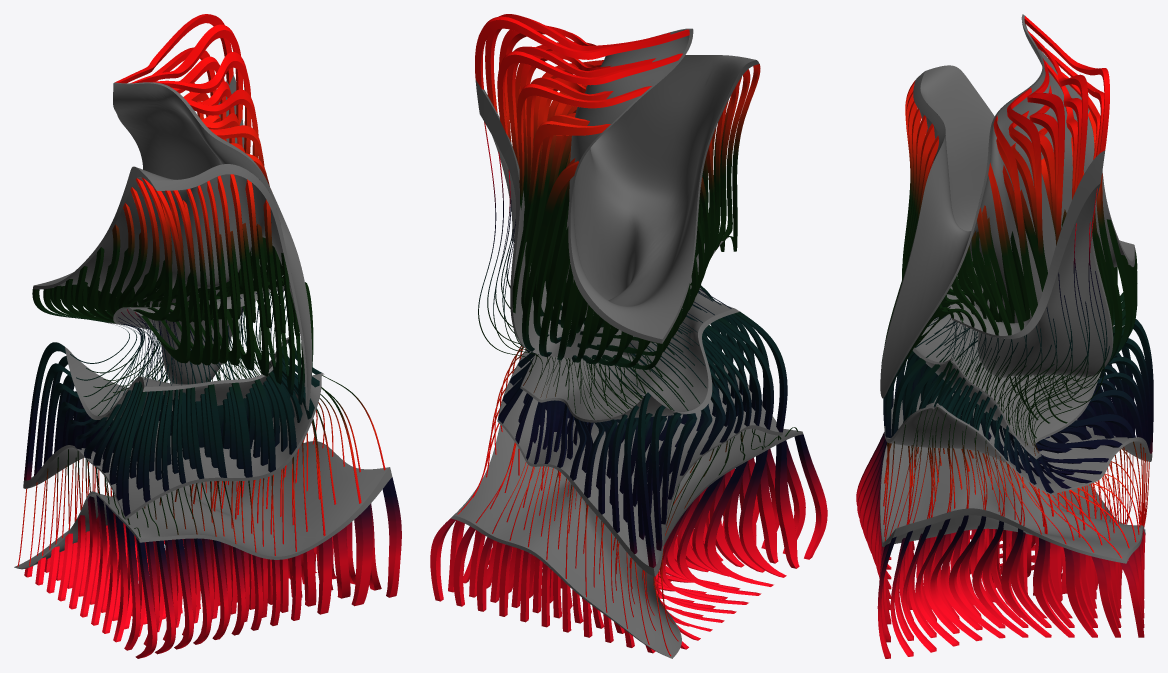
The model's file is chromiebridgeauralsection-RED-v141.glb.
3 renders of one model, left to right at view 1: azimuth 30°, elevation 25°; view 2: azimuth 150°, elevation 25°; view 3: azimuth 270°, elevation 25°, orthographic. The views are drawn at different scales.
Visible parts, largest first — view 1: Merged Objects 4, Merged Objects 6; view 2: Merged Objects 4, Merged Objects 6; view 3: Merged Objects 4, Merged Objects 6.
Boxes of the visible parts, <box> form: Merged Objects 4: <box>17,14,401,658</box>; Merged Objects 6: <box>14,75,392,569</box>; Merged Objects 4: <box>430,14,827,656</box>; Merged Objects 6: <box>450,28,803,658</box>; Merged Objects 4: <box>856,16,1153,658</box>; Merged Objects 6: <box>880,14,1152,563</box>.
Size of the model in its own units: 5.42 by 10.43 by 5.18.
2 materials, 1 textured.
